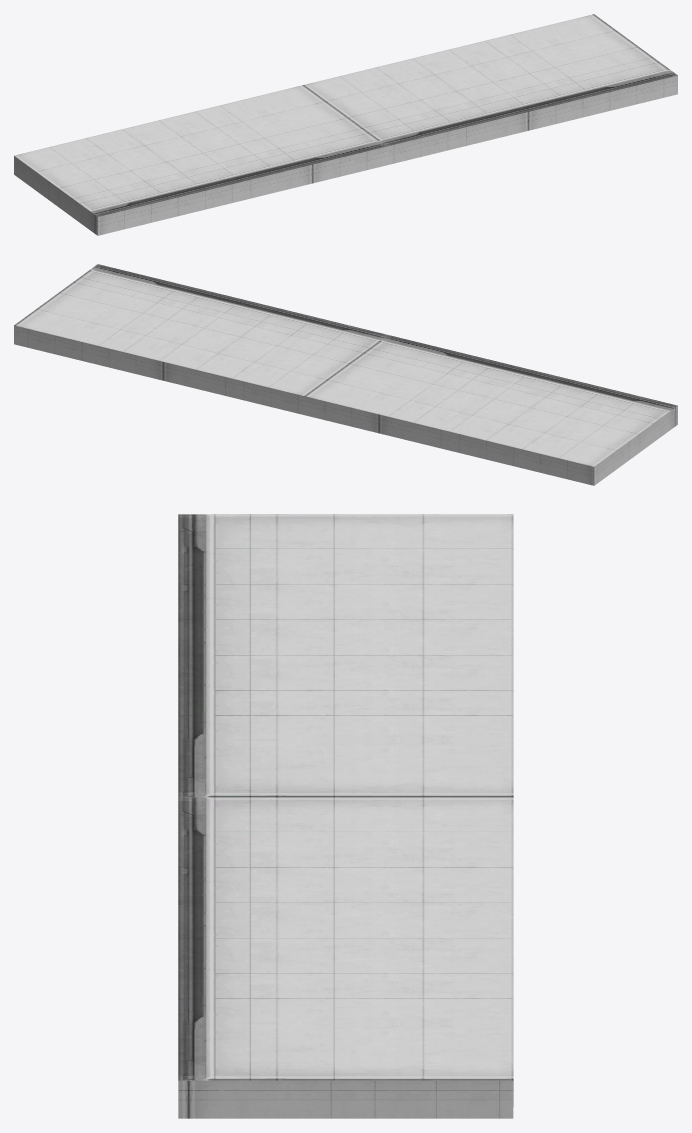
Rendered from Neon_Floor_Lrg_8x2_03.FBX.
3 renders of one model, top to bottom at view 1: azimuth 30°, elevation 25°; view 2: azimuth 150°, elevation 25°; view 3: azimuth 270°, elevation 25°, orthographic. The views are drawn at different scales.
Parts seen in each view (by area): view 1: Neon_Floor_Lrg_8x2_03; view 2: Neon_Floor_Lrg_8x2_03; view 3: Neon_Floor_Lrg_8x2_03.
Boxes of the visible parts, x1=… form: Neon_Floor_Lrg_8x2_03: x1=14, y1=14, x2=677, y2=235; Neon_Floor_Lrg_8x2_03: x1=14, y1=264, x2=677, y2=485; Neon_Floor_Lrg_8x2_03: x1=178, y1=514, x2=513, y2=1118.
Bounding box in the file's own units: 8 × 0.2499 × 2.
